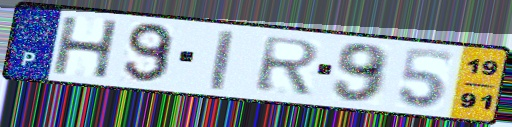5: (398, 44, 458, 112)
9: (328, 42, 394, 105), (121, 21, 177, 85)
H: (51, 15, 123, 80)
I: (209, 28, 237, 93)
R: (253, 35, 324, 97)
